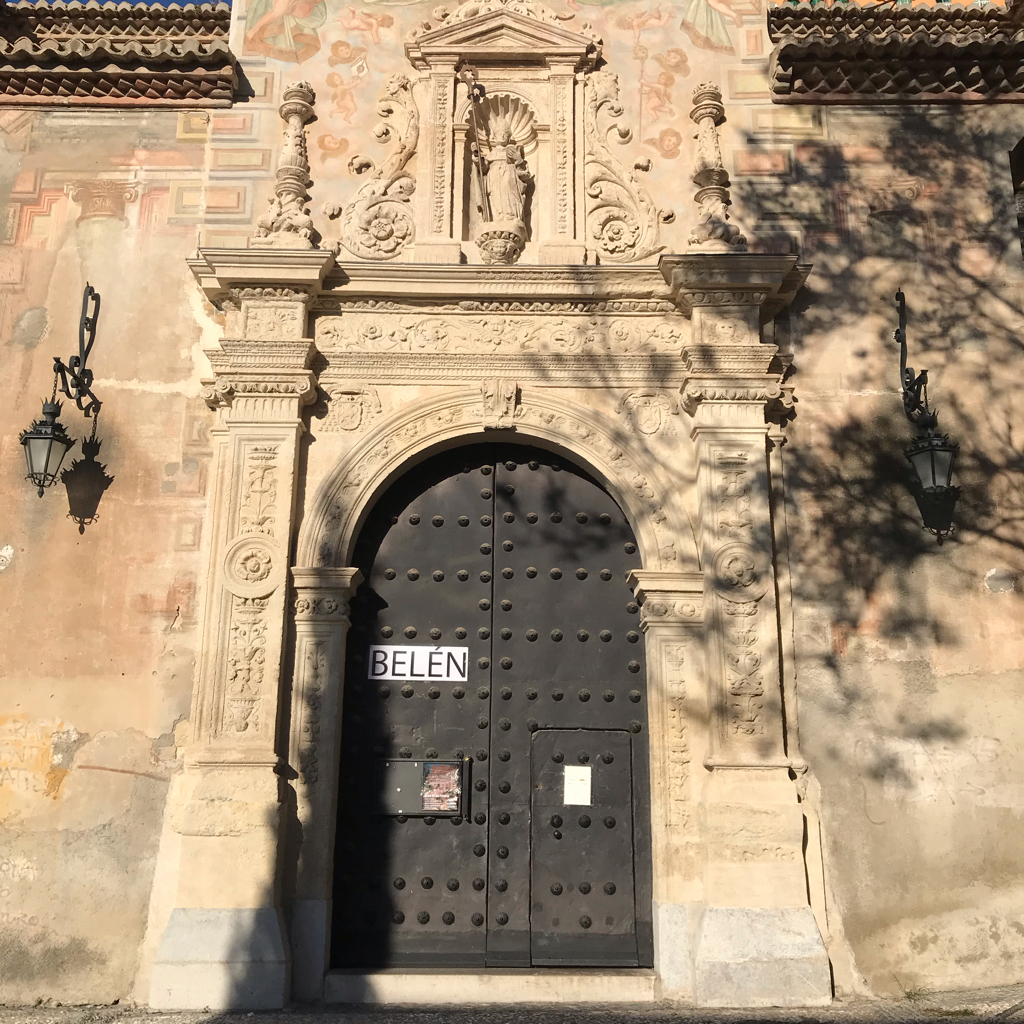arco-medio-punto: (325, 410, 661, 640)
fronton: (405, 6, 593, 63)
